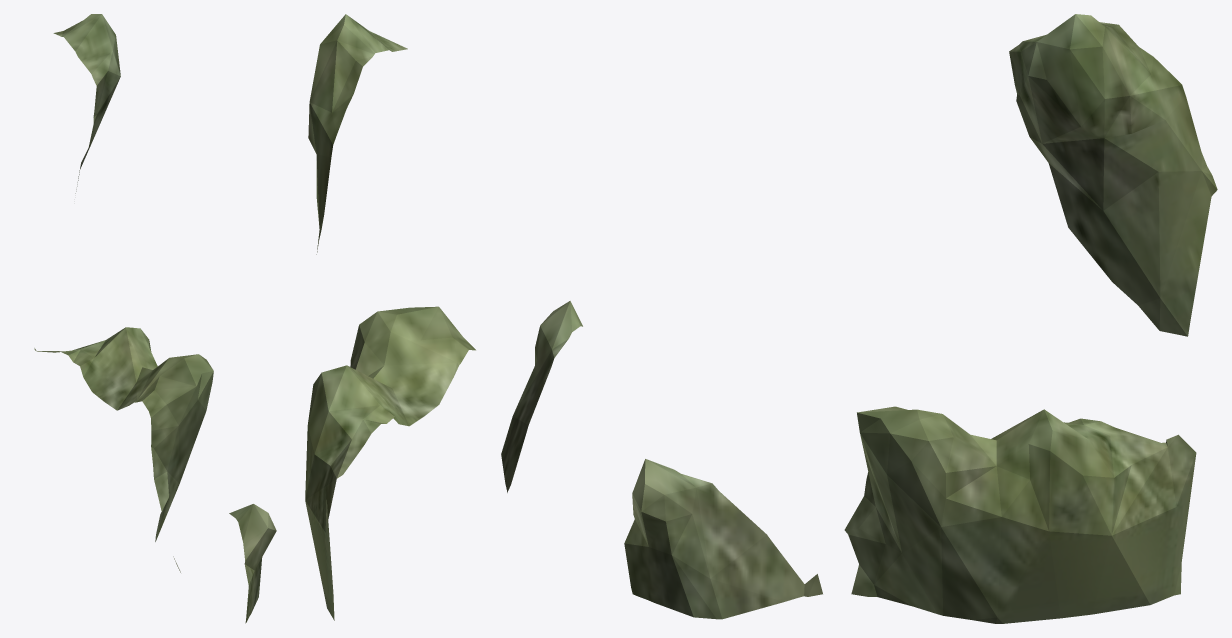
The picture shows the model from 3 angles, left to right: view 1: azimuth 30°, elevation 25°; view 2: azimuth 150°, elevation 25°; view 3: azimuth 270°, elevation 25°; orthographic projection. The views are drawn at different scales.
Bounding box in the file's own units: 0.6595 × 3.79 × 3.4.
Materials: 1 (1 with a texture image).
